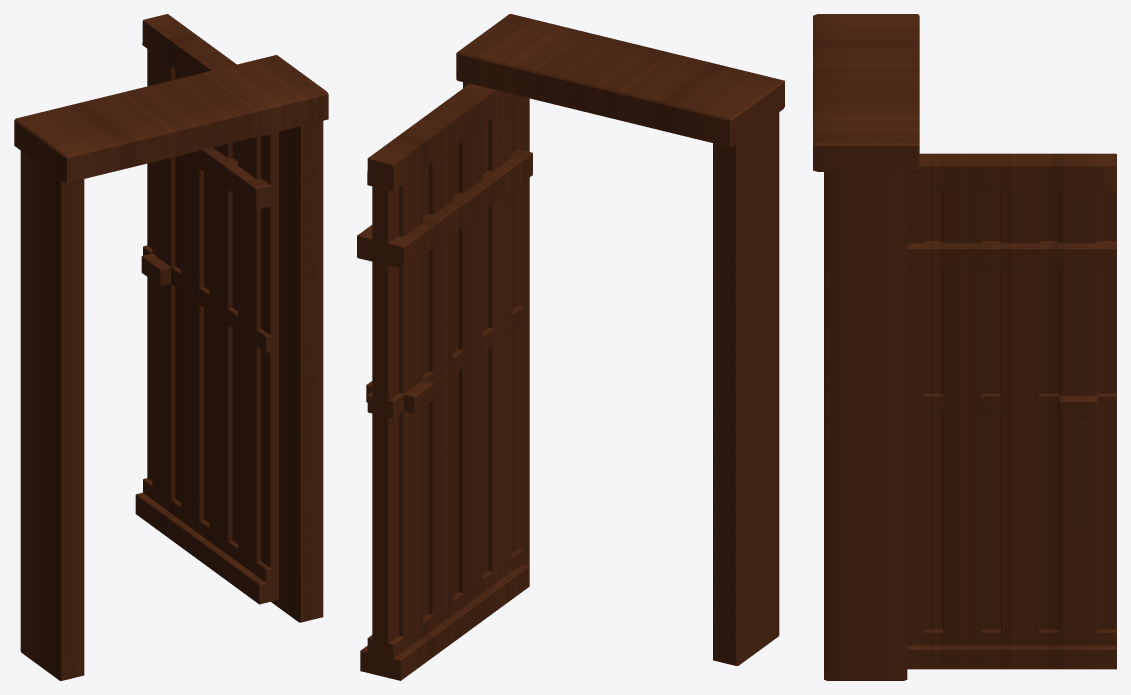
Rendered from Door_Opened.fbx.
3 renders of one model, left to right at view 1: azimuth 30°, elevation 25°; view 2: azimuth 150°, elevation 25°; view 3: azimuth 270°, elevation 25°, orthographic. The views are drawn at different scales.
Parts seen in each view (by area): view 1: Door_Opened, Cube.015; view 2: Cube.015, Door_Opened; view 3: Cube.015, Door_Opened.
Part boxes in pixels (x1=…): Door_Opened: x1=14, y1=55, x2=328, y2=680; Cube.015: x1=135, y1=14, x2=278, y2=604; Cube.015: x1=357, y1=84, x2=532, y2=680; Door_Opened: x1=456, y1=14, x2=784, y2=665; Cube.015: x1=907, y1=153, x2=1116, y2=669; Door_Opened: x1=813, y1=14, x2=919, y2=680.
Bounding box in the file's own units: 212 × 406 × 208.
